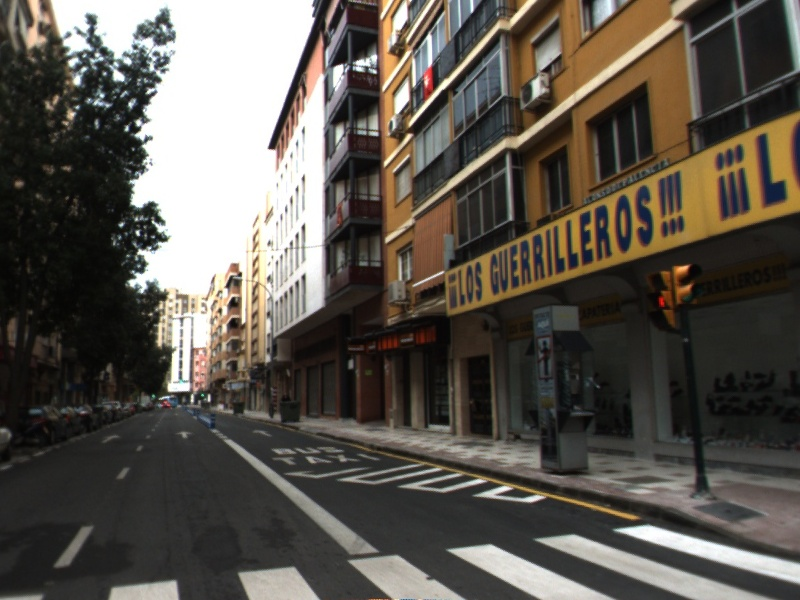STRAIGHT: (98, 432, 123, 446), (250, 427, 275, 439), (173, 429, 195, 441)
